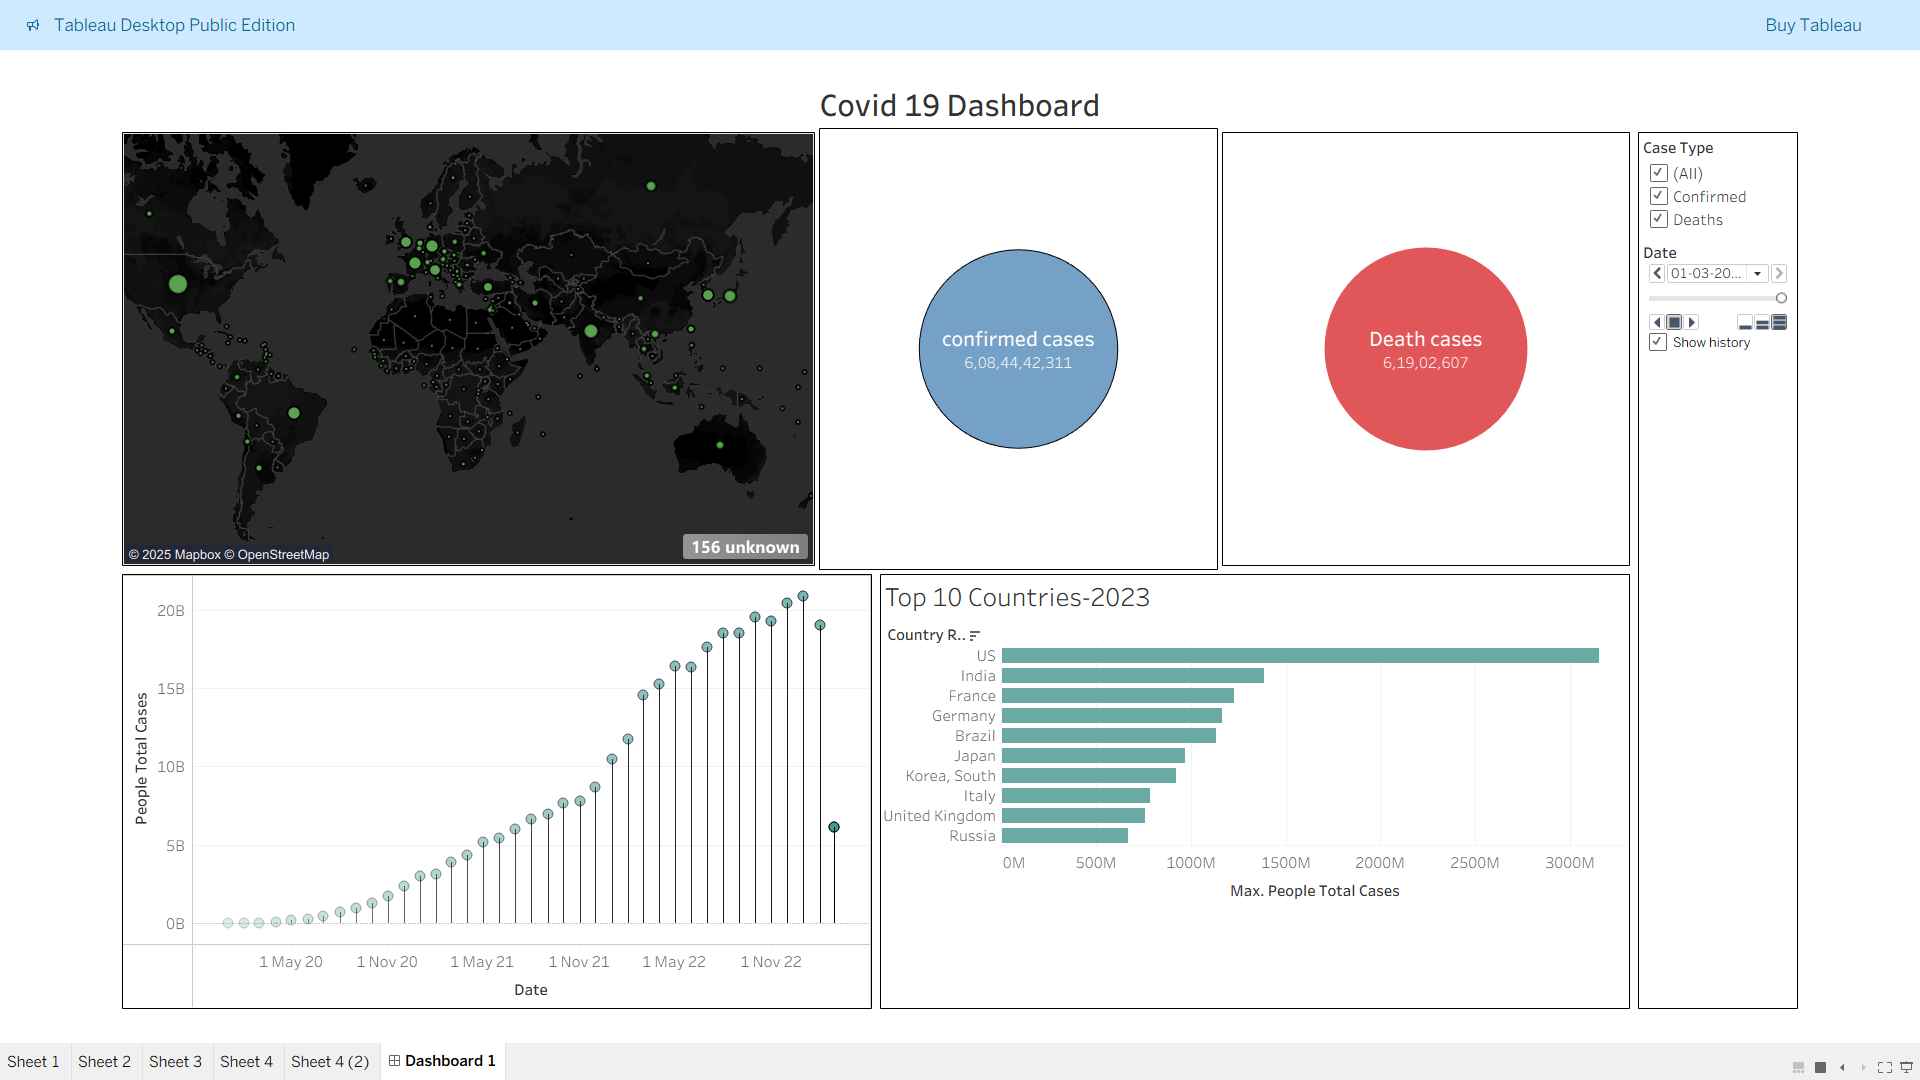

What the dashboard file says about the page in this screenshot:
{"tool":"tableau","page":{"name":"Dashboard 1","canvas":[1000,1000],"units":"permille","ordinal":0},"visuals":[{"type":"title","box":[4.8,9.3,990.3,56.9]},{"type":"worksheet","title":"Sheet 1","mark":"Circle","box":[4.8,66.2,410.9,462.1]},{"type":"worksheet","title":"Sheet 4","mark":"Pie","box":[415.7,66.2,234,462.1]},{"type":"worksheet","title":"Sheet 4 (2)","mark":"Pie","box":[649.8,66.2,244,462.1]},{"type":"filter","title":"Sheet 2","param":"[federated.1i4uu7z1ki1hix173v2f80c231lt].[none:Case_Type:nk]","box":[896.8,72,95.4,122]},{"type":"currpage","title":"Sheet 1","box":[896.8,194,95.4,138.2]},{"type":"worksheet","title":"Sheet 2","mark":"Automatic","rows":["People_Total Cases","People_Total Cases"],"cols":["Date"],"box":[4.8,528.3,444.4,462.4]},{"type":"worksheet","title":"Sheet 3","mark":"Automatic","rows":["Country_Reg"],"cols":["People_Total Cases"],"box":[449.2,528.3,444.6,462.4]}]}

Visuals, with their boxes on the dashboard's canvas, which has no fixed pixel size, in thousandths of its width and height (x1, y1, x2, y2). These are canvas units, not pixel positions in the 1920x1080 screenshot, which may show the page scaled, cropped or inside an application window:
title: locate(5, 9, 995, 66)
"Sheet 1" worksheet (Circle marks): locate(5, 66, 416, 528)
"Sheet 4" worksheet (Pie marks): locate(416, 66, 650, 528)
"Sheet 4 (2)" worksheet (Pie marks): locate(650, 66, 894, 528)
"Sheet 2" filter: locate(897, 72, 992, 194)
"Sheet 1" currpage: locate(897, 194, 992, 332)
"Sheet 2" worksheet: locate(5, 528, 449, 991)
"Sheet 3" worksheet: locate(449, 528, 894, 991)
